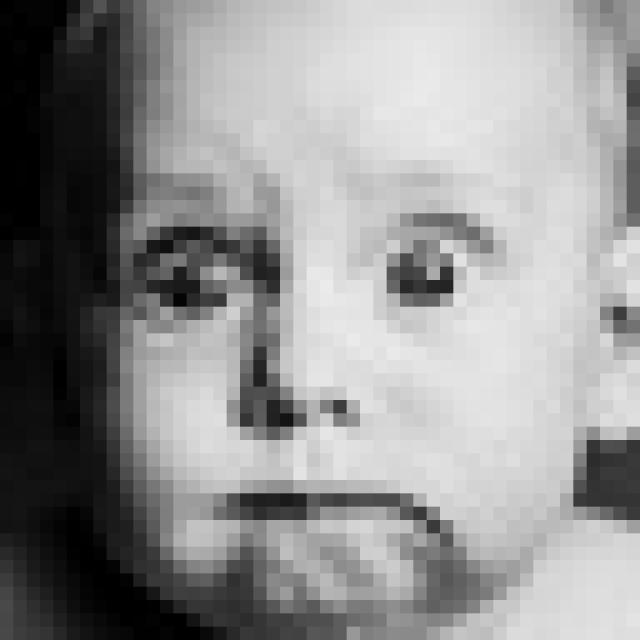fear: (116, 160, 539, 597)
